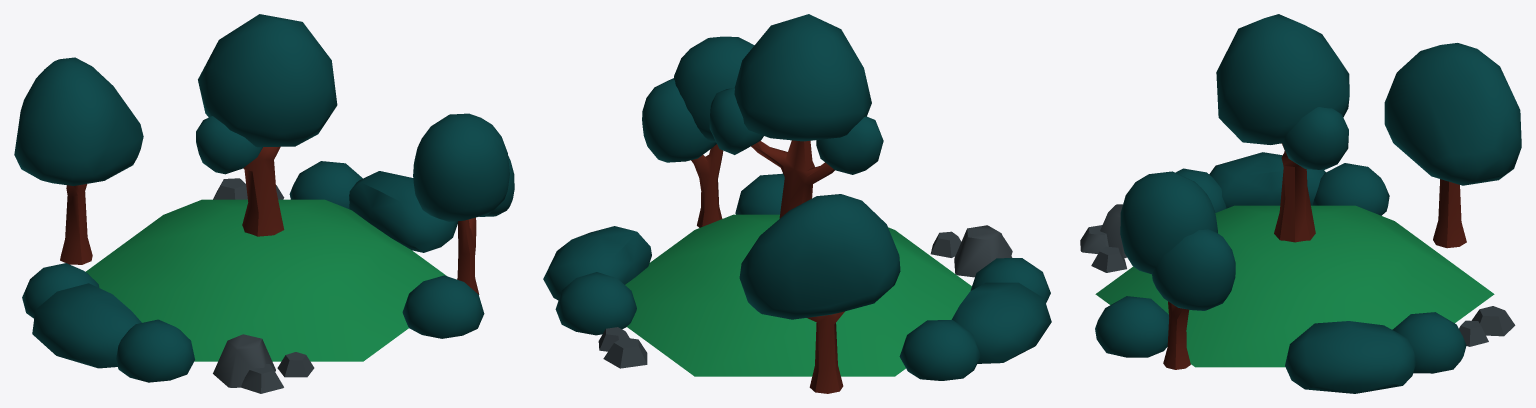
File: detail_hill.obj
3 renders of one model, left to right at view 1: azimuth 30°, elevation 25°; view 2: azimuth 150°, elevation 25°; view 3: azimuth 270°, elevation 25°, orthographic.
Visible parts, largest first — view 1: detail_hill_Cylinder.790; view 2: detail_hill_Cylinder.790; view 3: detail_hill_Cylinder.790.
Part boxes in pixels (left/top/right/bottom): detail_hill_Cylinder.790: left=14, top=14, right=514, bottom=393; detail_hill_Cylinder.790: left=543, top=14, right=1051, bottom=393; detail_hill_Cylinder.790: left=1080, top=14, right=1521, bottom=393.
Size of the model in its own units: 1.82 by 1.1 by 1.59.
